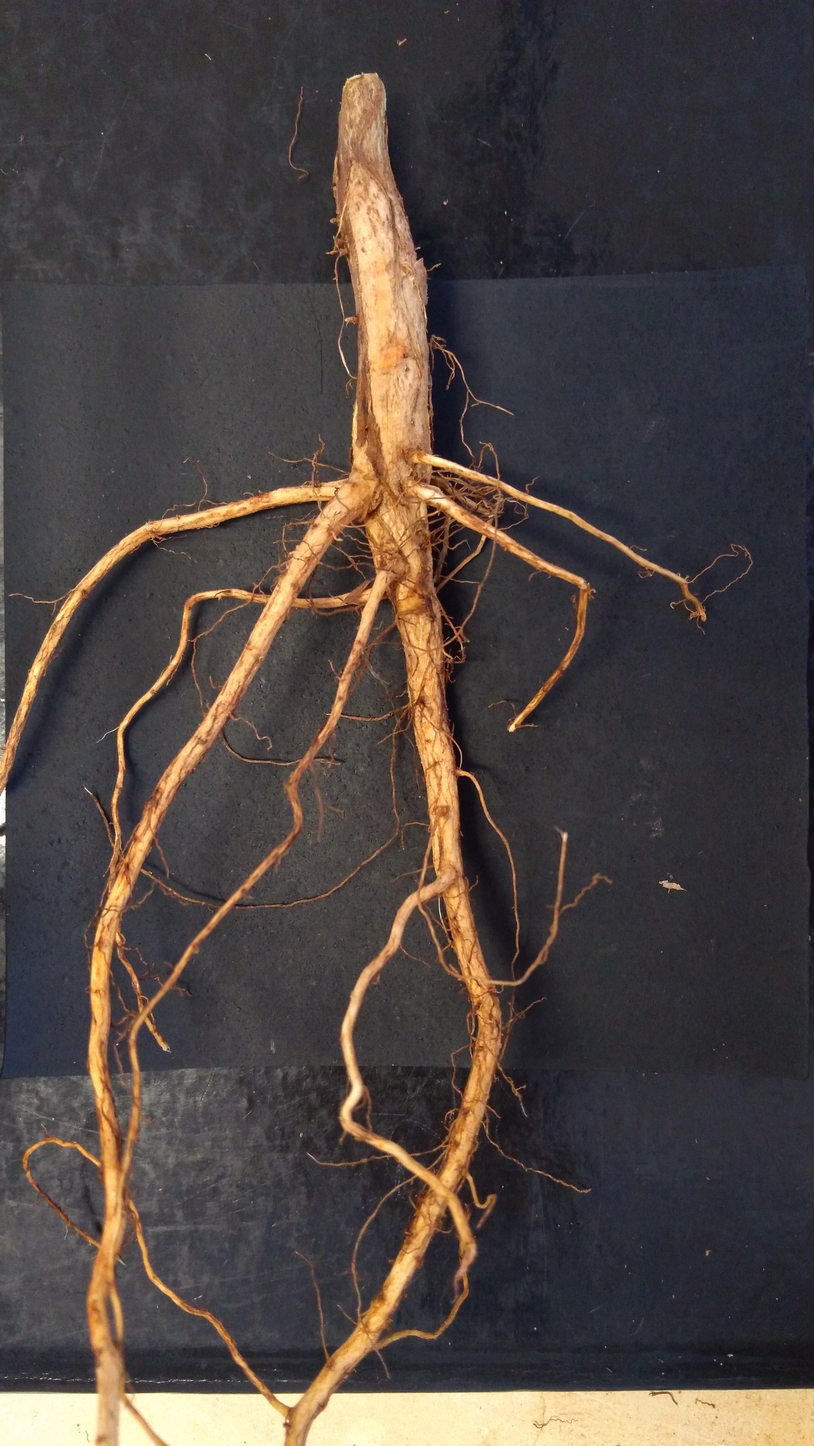nodule: (413, 257, 428, 307), (386, 552, 407, 576), (115, 931, 126, 946), (491, 1004, 502, 1019), (344, 316, 357, 325)
